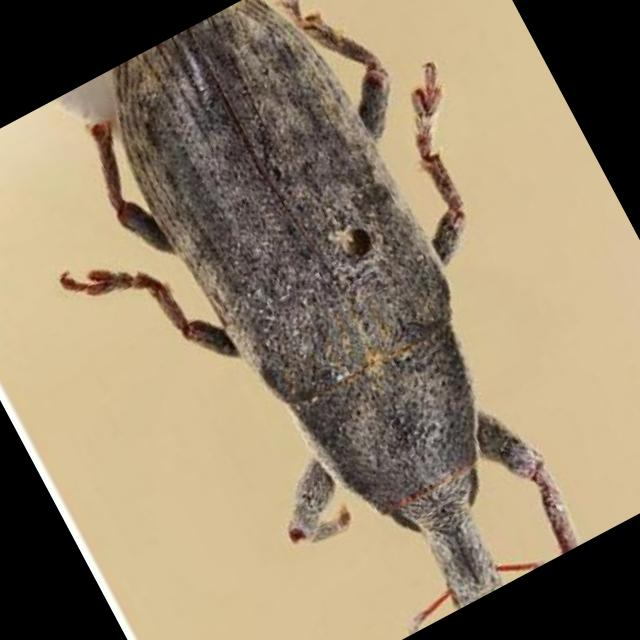rice-bug: (53, 0, 628, 640)
